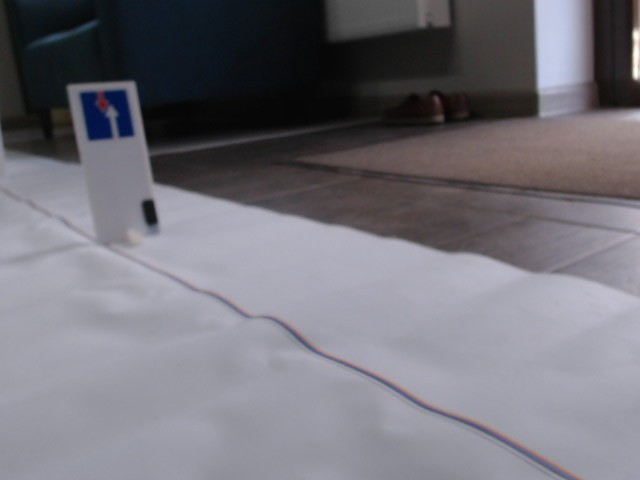priority_movement: (75, 89, 140, 142)
